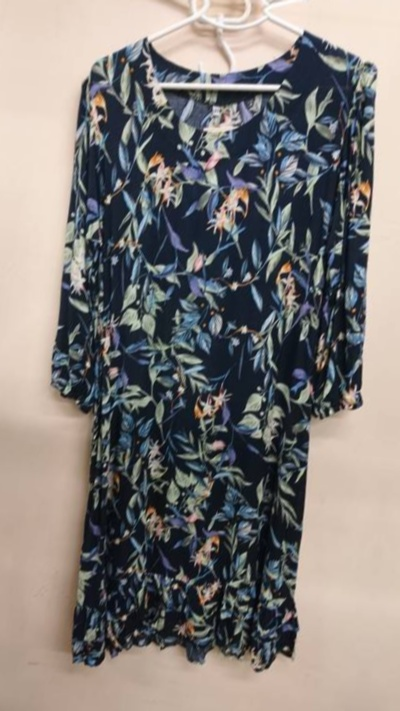Dress: (0, 3, 400, 708), (0, 0, 17, 664), (383, 49, 400, 711), (52, 0, 400, 9)
